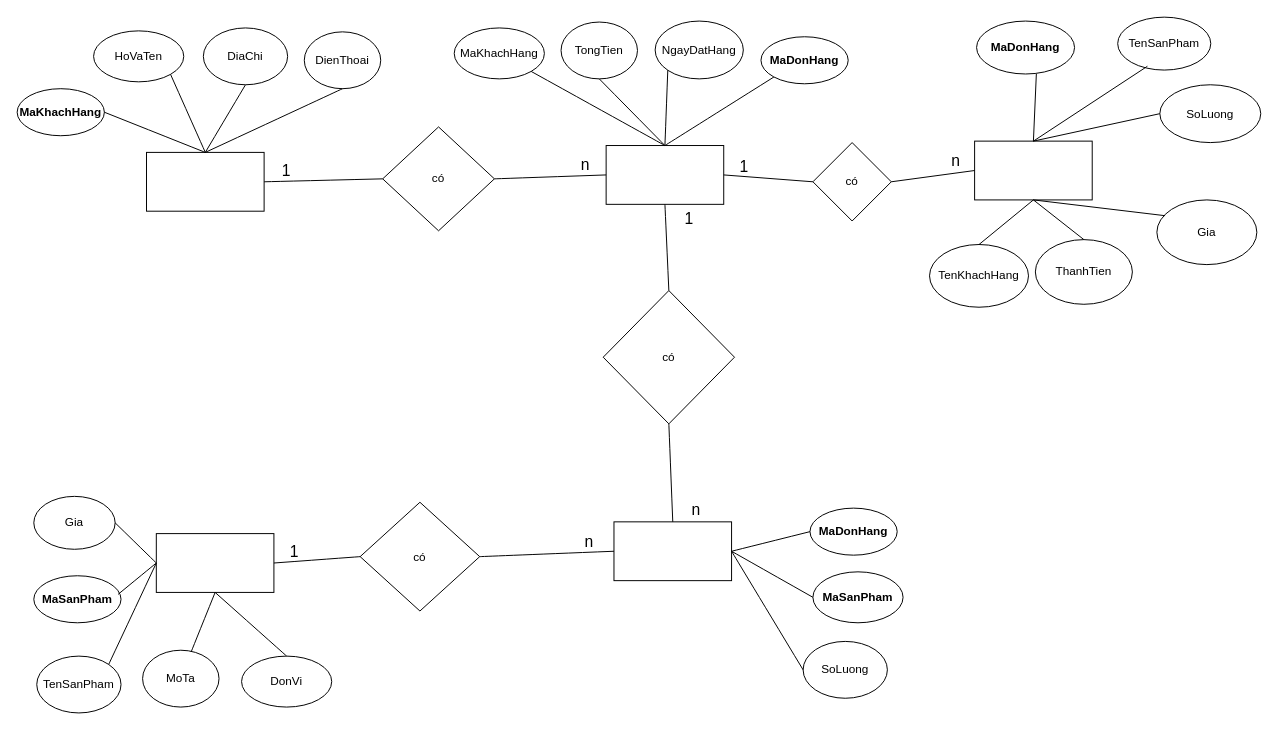
The diagram is 1278 pixels wide and 730 high, and some of its shapes have lost their labels. The shapes that lost their labels are listed below. From the top down, each one's centre as x and y in pixels, then its label:
[205,181]: KhachHang
[664,174]: DonHang
[1033,170]: ChiTietDonHang
[214,562]: SanPham
[672,551]: DatHang
